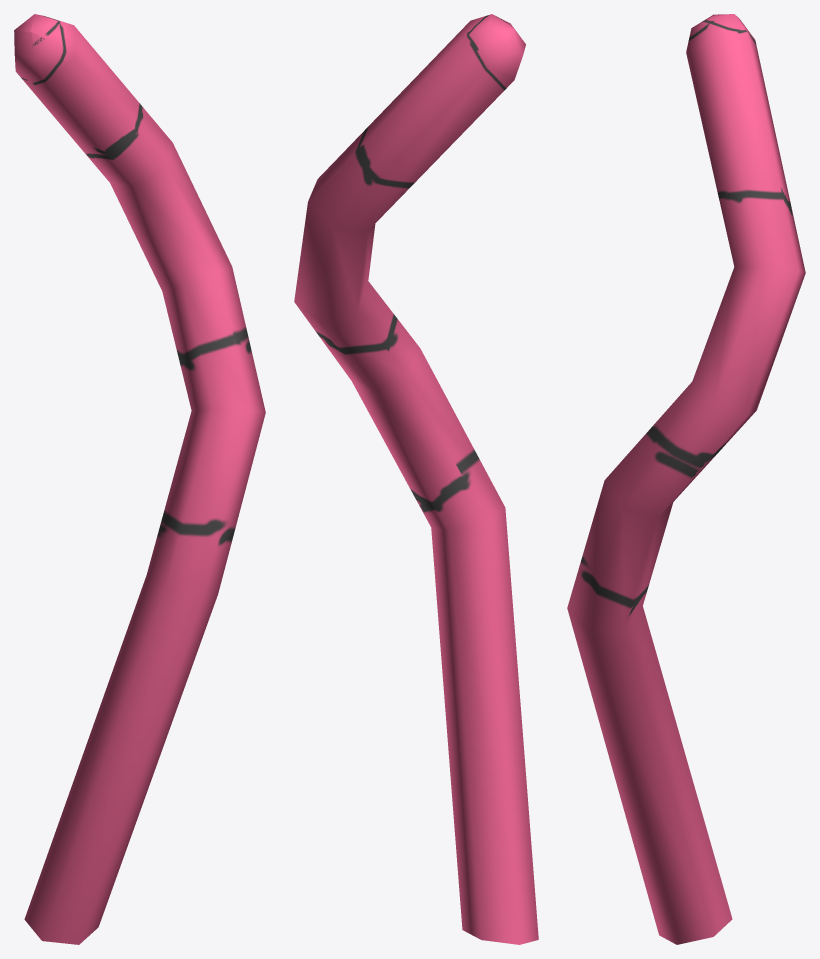
File: mimizu.fbx
The picture shows the model from 3 angles, left to right: view 1: azimuth 30°, elevation 25°; view 2: azimuth 150°, elevation 25°; view 3: azimuth 270°, elevation 25°; orthographic projection. The views are drawn at different scales.
Parts seen in each view (by area): view 1: NURBSパス; view 2: NURBSパス; view 3: NURBSパス.
Part boxes in pixels (x1,y1,x2,y2): NURBSパス: (14, 14, 265, 944); NURBSパス: (294, 14, 538, 944); NURBSパス: (567, 14, 805, 944).
Size of the model in its own units: 1.72 by 6.96 by 1.64.
1 material, 1 textured.
